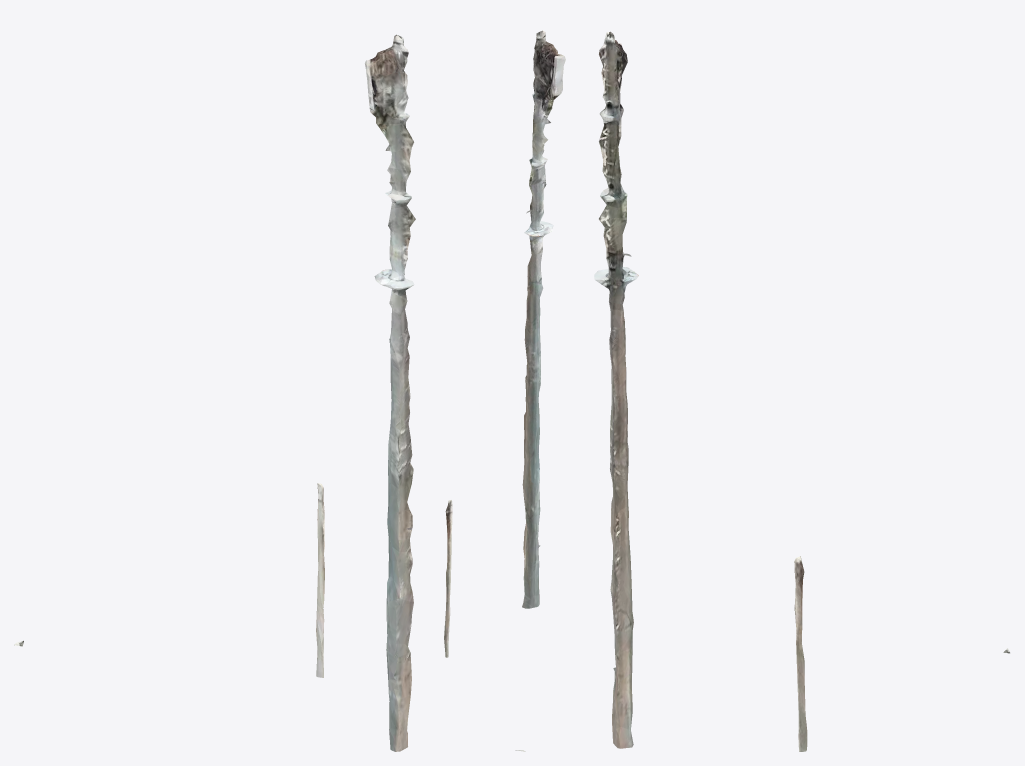
Rendered from BlockYABX_L21_45.glb.
3 views of the same model, side by side, from view 1: azimuth 30°, elevation 25°; view 2: azimuth 150°, elevation 25°; view 3: azimuth 270°, elevation 25° (orthographic). The views are drawn at different scales.
Parts seen in each view (by area): view 1: rtc; view 2: rtc; view 3: rtc.
Part boxes in pixels (box(x1,y1,x2,y2)): rtc: box(14, 34, 415, 751); rtc: box(444, 30, 565, 751); rtc: box(594, 31, 1009, 751).
Bounding box in the file's own units: 5.78 × 19.89 × 10.3.
2 materials, 2 textured.
